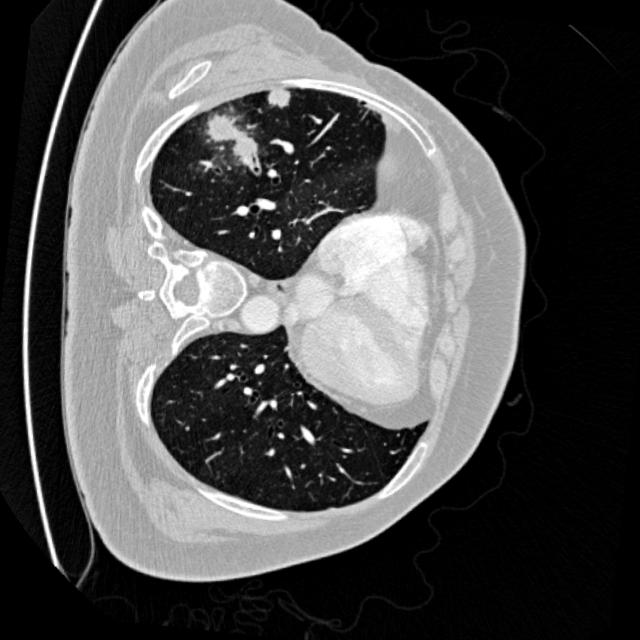nodule: (256, 73, 302, 119)
